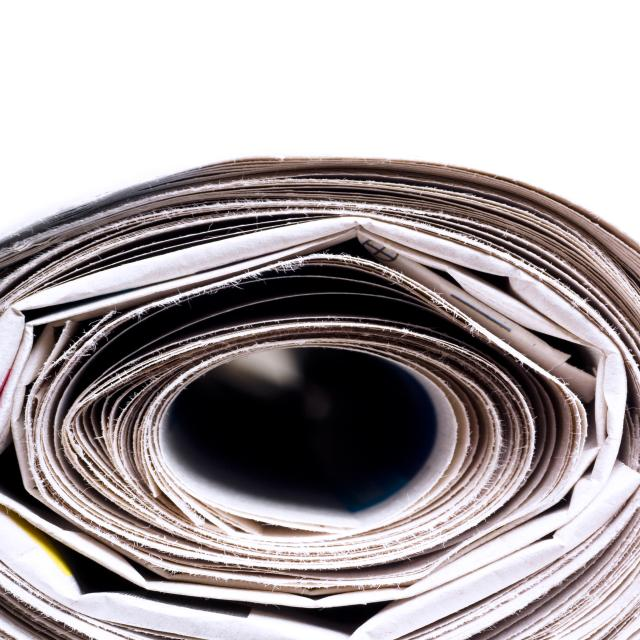paper: (83, 158, 580, 605)
